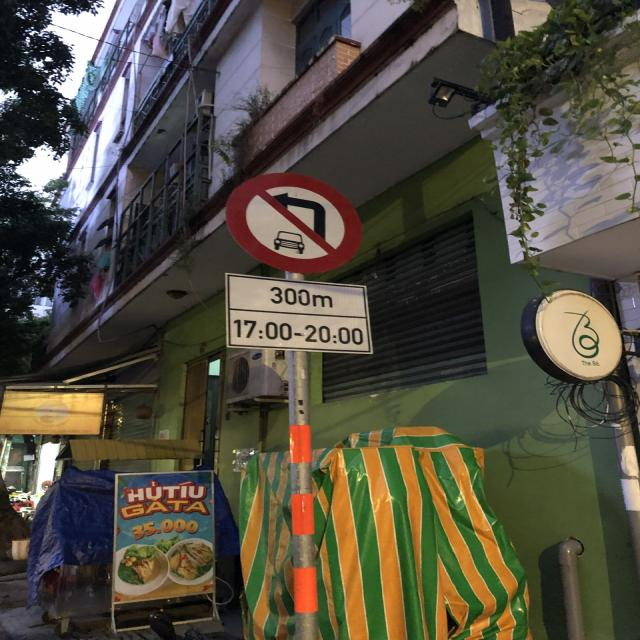Bien bao cam xe o to re trai: (215, 165, 371, 278)
